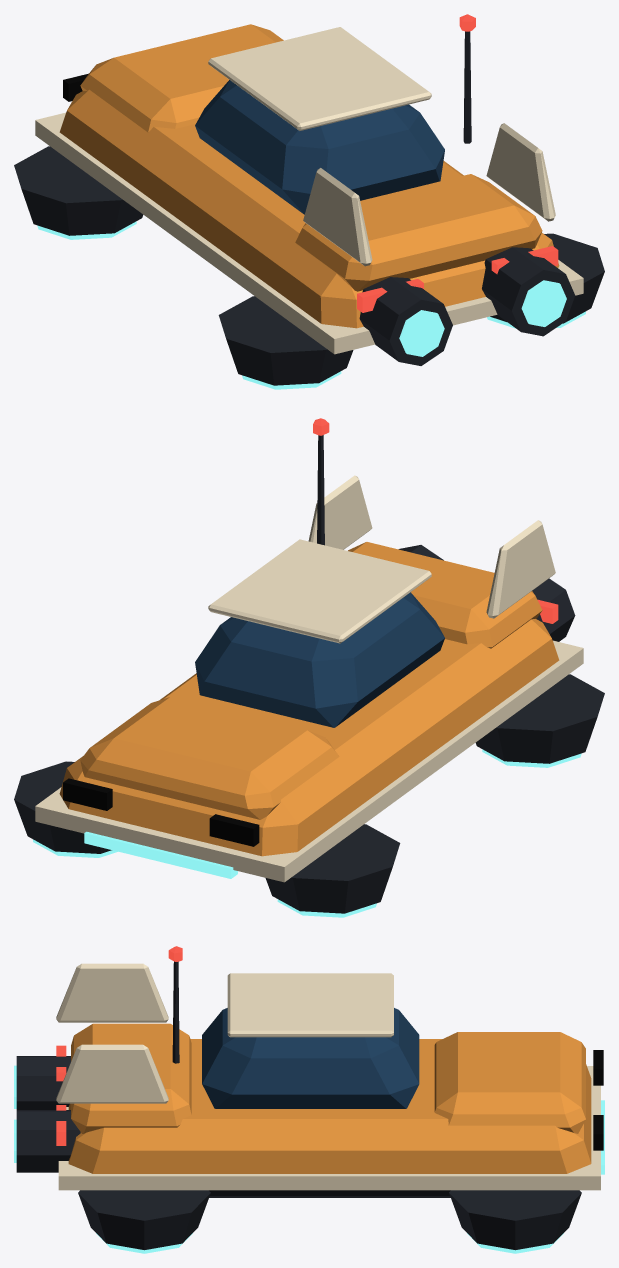
File: City_Car.fbx
3 views of the same model, one above another, from view 1: azimuth 30°, elevation 25°; view 2: azimuth 150°, elevation 25°; view 3: azimuth 270°, elevation 25° (orthographic). The views are drawn at different scales.
Parts seen in each view (by area): view 1: City_Car; view 2: City_Car; view 3: City_Car.
Boxes of the visible parts, x1,y1,x2,y2 form: City_Car: [14, 14, 604, 389]; City_Car: [14, 418, 604, 917]; City_Car: [14, 946, 604, 1253].
Bounding box in the file's own units: 3.04 × 4.62 × 2.29.
